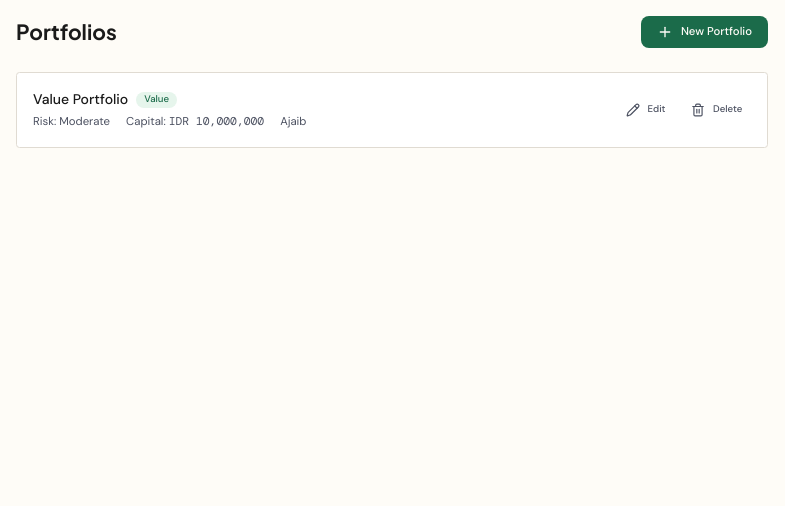
Scenario: PortfolioPage › State C: Portfolio list (portfolios exist) › back button returns to list from detail view
expect the text "Value Portfolio" is shown: met, box [33,89,128,110]
What coordinates should you click on to do the following:
click the button "Value Portfolio"
I would click on:
 (81, 99)
Its box is [33,89,617,131].
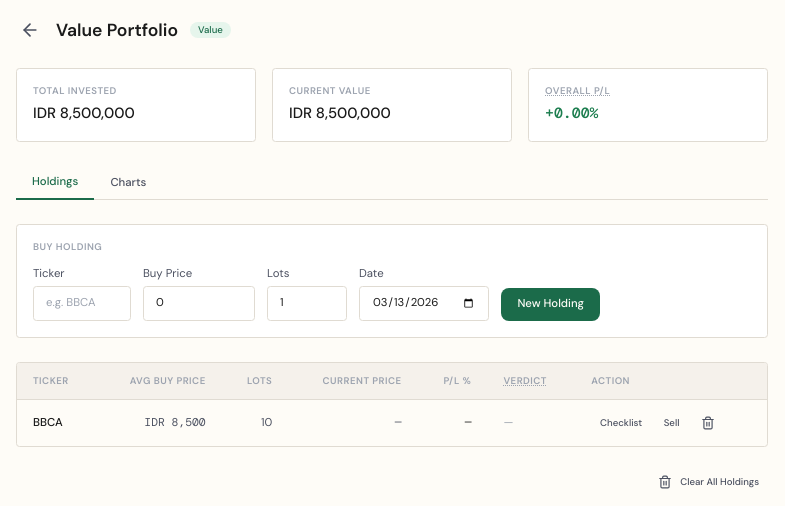
expect the text "BBCA" is shown: met, box [17,400,96,446]
What coordinates should you click on to do the following:
click the button named "back to list"
I would click on:
 (30, 30)
Its box is [16,16,44,44].
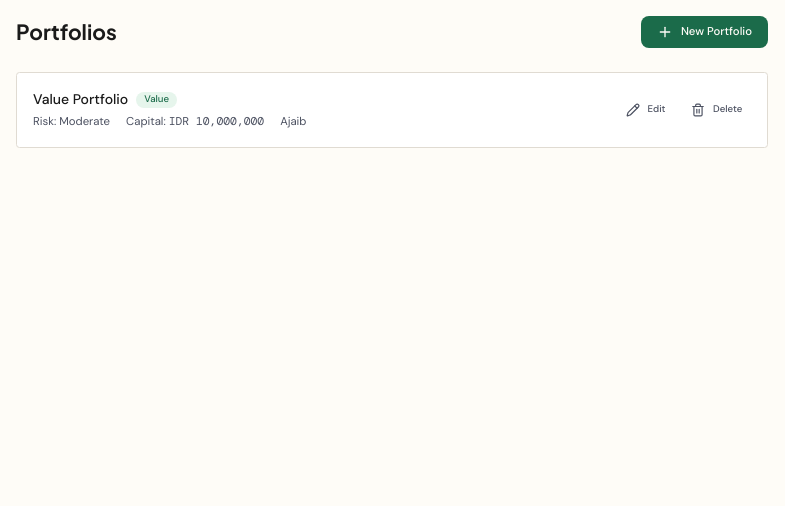
expect the element with test id "portfolio-card" is shown: met, box [16,72,768,148]
